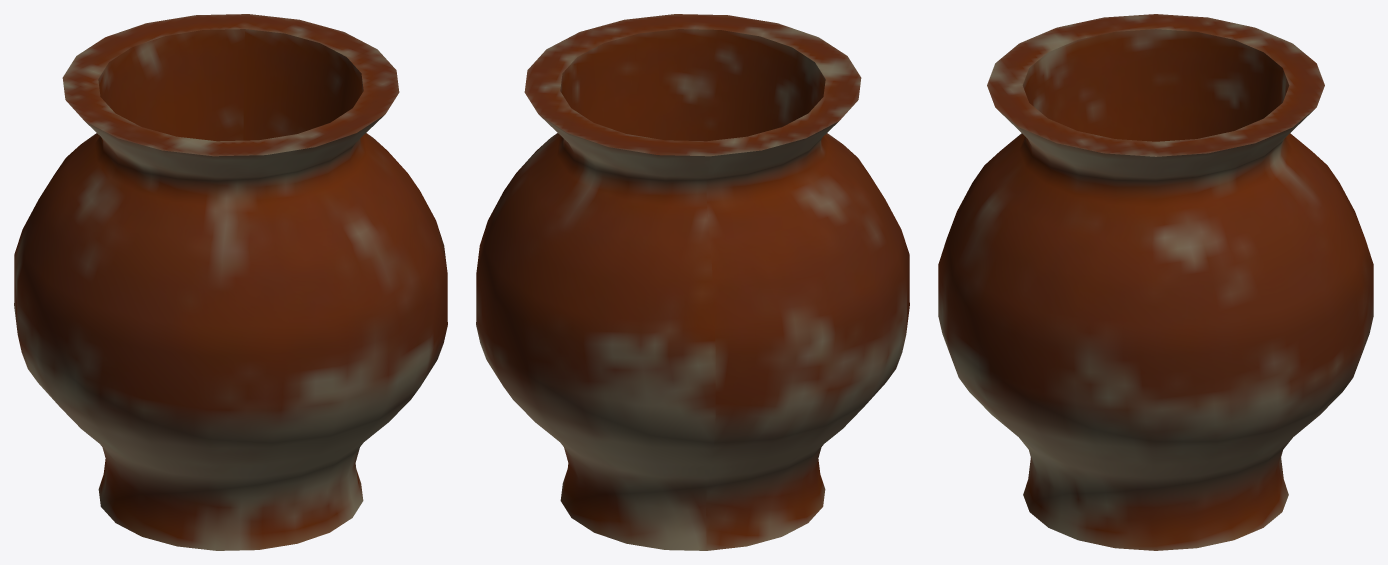
The model's file is vase.glb.
The picture shows the model from 3 angles, left to right: view 1: azimuth 30°, elevation 25°; view 2: azimuth 150°, elevation 25°; view 3: azimuth 270°, elevation 25°; orthographic projection.
Visible parts, largest first — view 1: Vase; view 2: Vase; view 3: Vase.
Boxes of the visible parts, x1,y1,x2,y2 form: Vase: (14,14,447,550); Vase: (476,14,909,550); Vase: (938,14,1373,550).
Bounding box in the file's own units: 8.34 × 8.65 × 8.34.
1 material, 1 textured.
